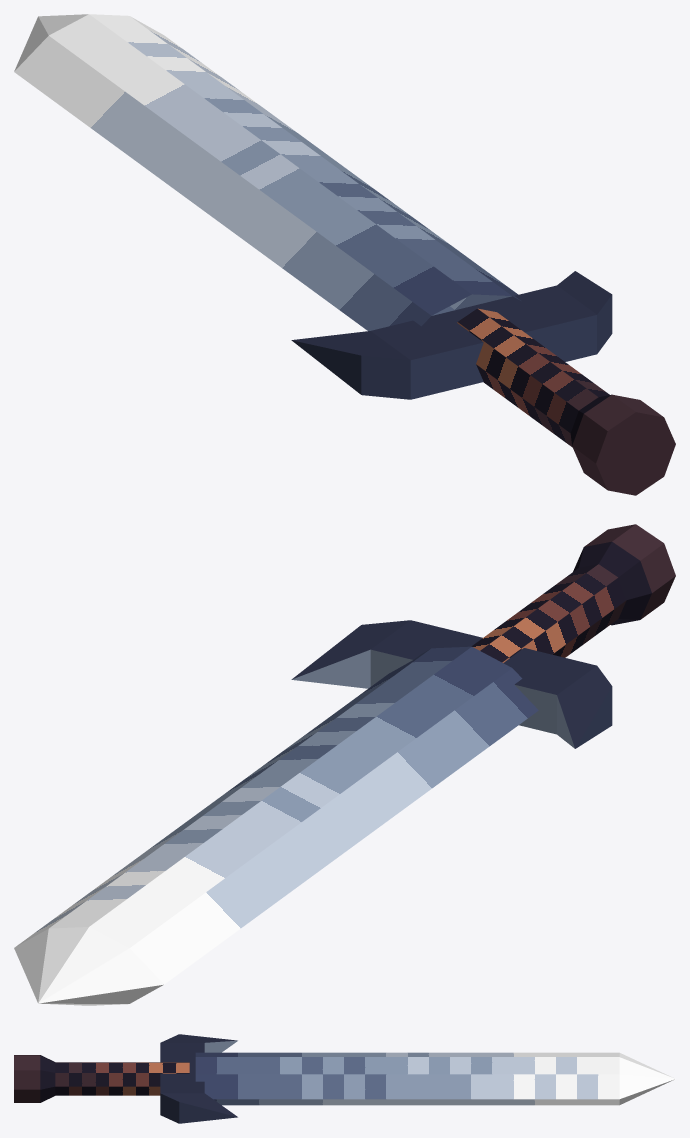
Rendered from sword.glb.
3 views of the same model, one above another, from view 1: azimuth 30°, elevation 25°; view 2: azimuth 150°, elevation 25°; view 3: azimuth 270°, elevation 25° (orthographic). The views are drawn at different scales.
Parts seen in each view (by area): view 1: Sword; view 2: Sword; view 3: Sword.
Boxes of the visible parts, left/top/right/bottom form: Sword: left=14, top=14, right=675, bottom=495; Sword: left=14, top=524, right=675, bottom=1005; Sword: left=14, top=1034, right=675, bottom=1123.
Bounding box in the file's own units: 0.459 × 0.1292 × 1.67.
Materials: 1 (1 with a texture image).
